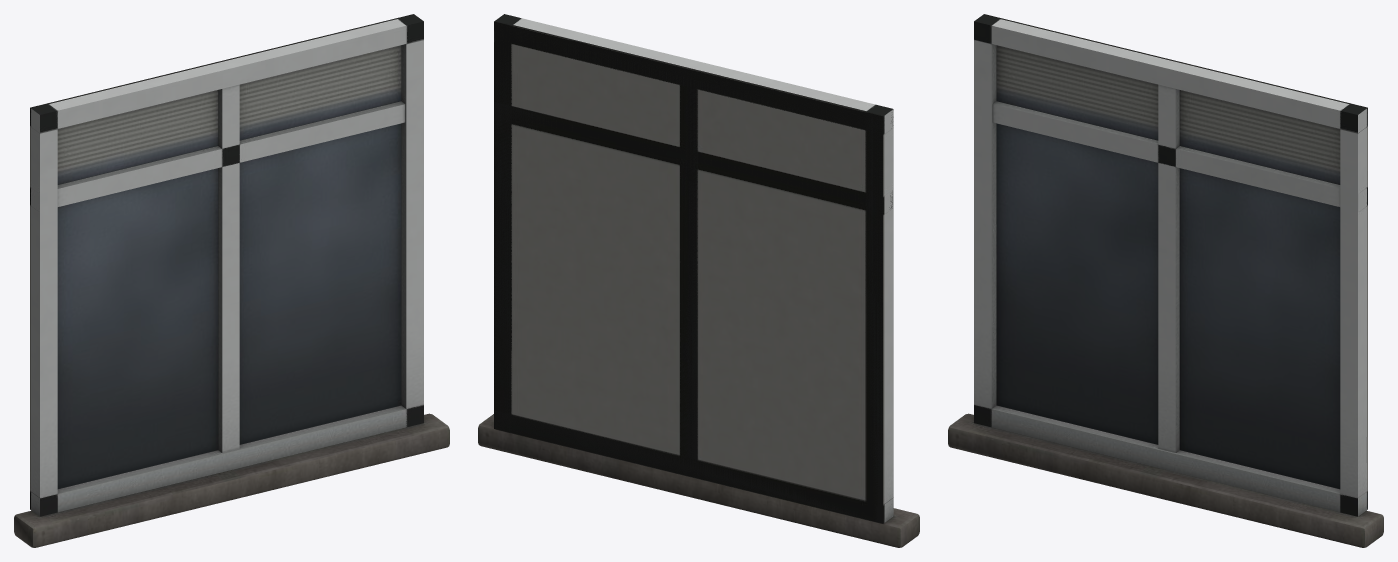
The model's file is win_office_sq.glb.
3 views of the same model, side by side, from view 1: azimuth 30°, elevation 25°; view 2: azimuth 150°, elevation 25°; view 3: azimuth 330°, elevation 25° (orthographic).
Parts seen in each view (by area): view 1: win_office_sq; view 2: win_office_sq; view 3: win_office_sq.
Part boxes in pixels (x1=…): win_office_sq: x1=14, y1=14, x2=449, y2=547; win_office_sq: x1=478, y1=14, x2=919, y2=547; win_office_sq: x1=948, y1=14, x2=1383, y2=547.
Size of the model in its own units: 1.2 by 1.16 by 0.1.
Materials: 1 (1 with a texture image).
